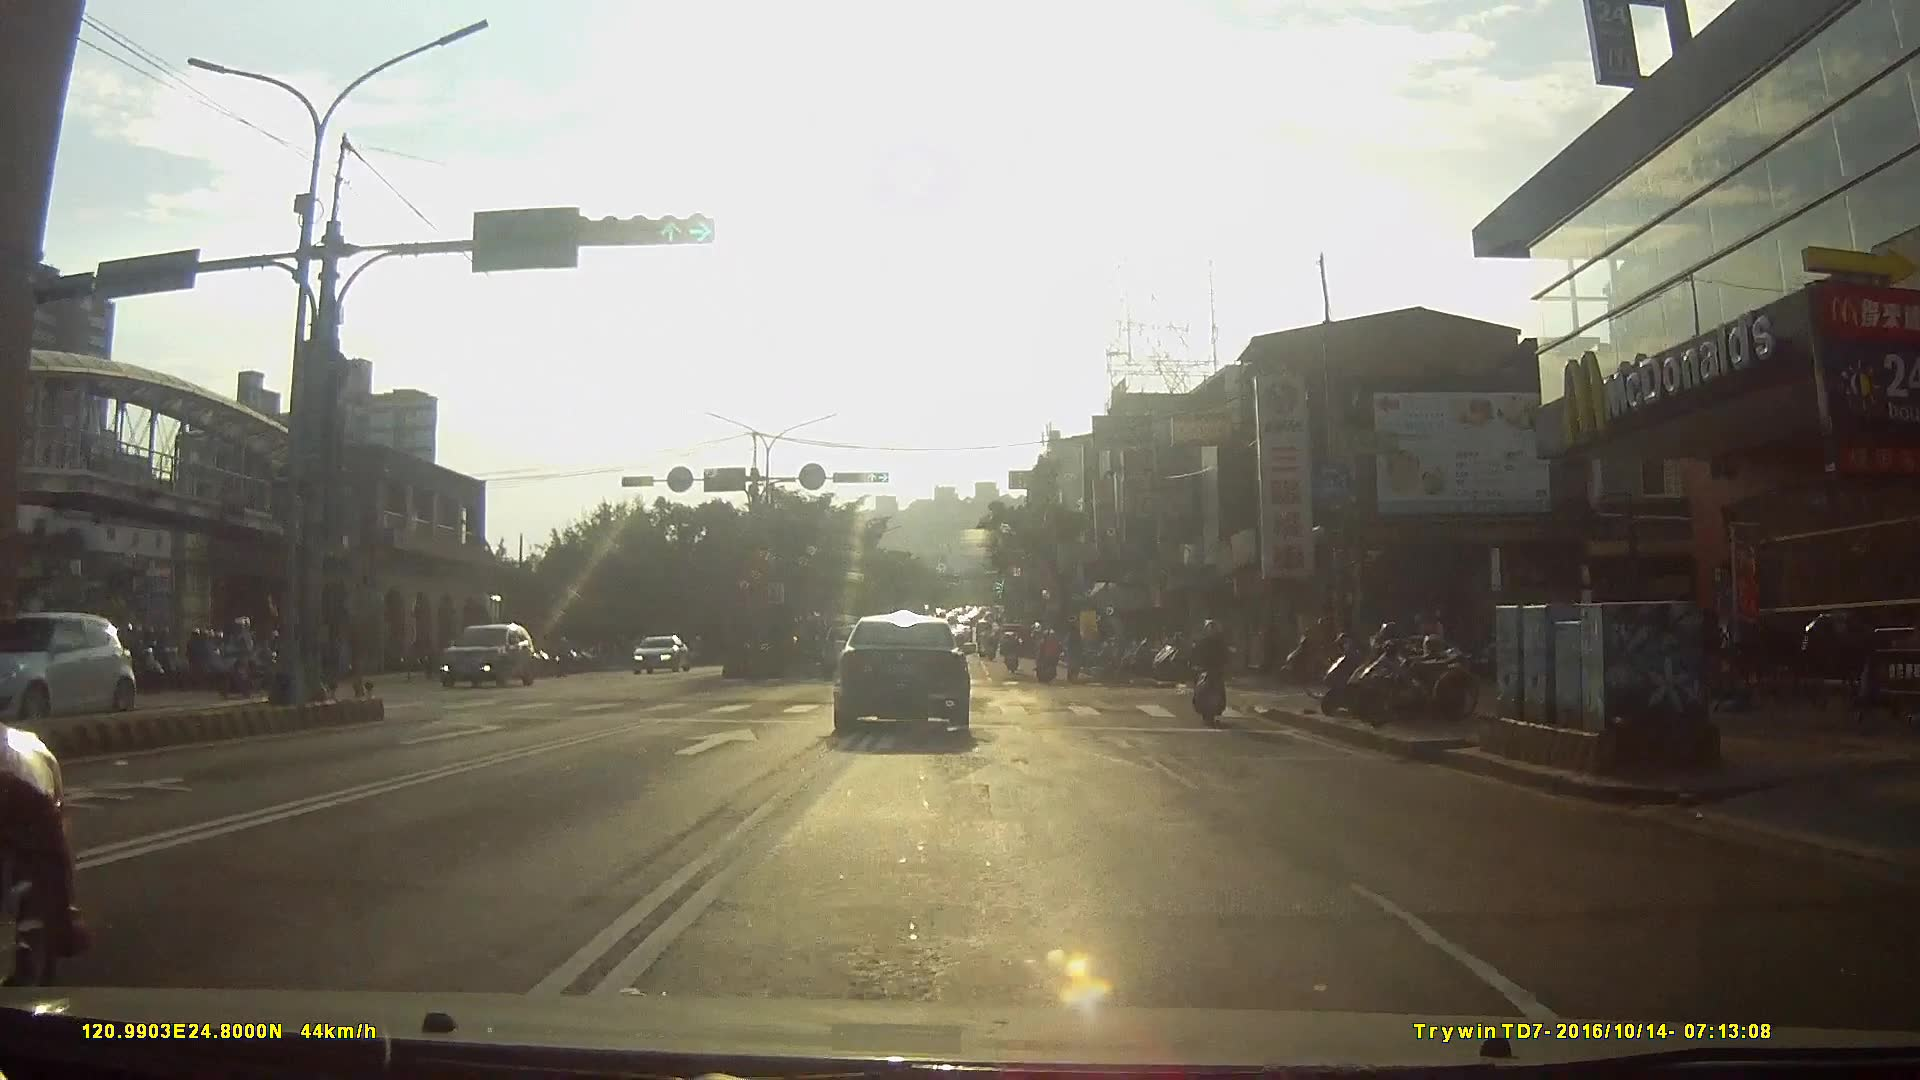rider: (1193, 613, 1238, 723), (214, 617, 270, 697), (103, 626, 170, 693), (223, 630, 286, 688), (1034, 627, 1062, 683), (1003, 632, 1023, 676)
vehicle: (830, 608, 982, 744), (10, 611, 147, 726), (440, 622, 538, 693), (632, 635, 695, 675)
